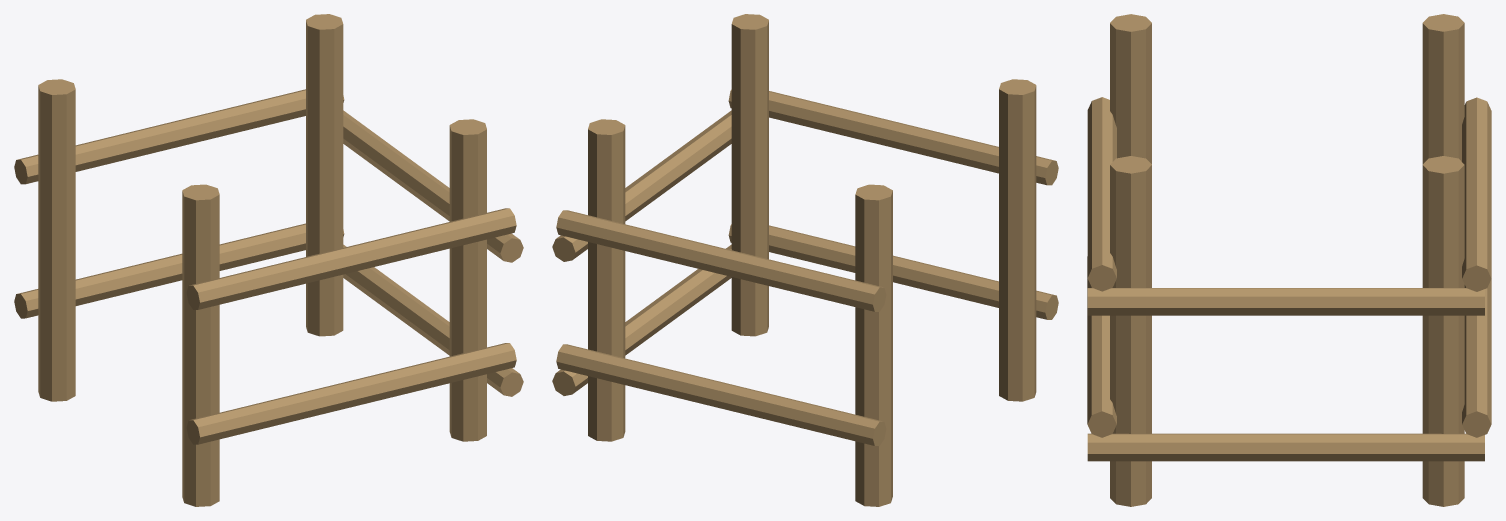
Rendered from Plany Cage.fbx.
3 views of the same model, side by side, from view 1: azimuth 30°, elevation 25°; view 2: azimuth 150°, elevation 25°; view 3: azimuth 270°, elevation 25° (orthographic). The views are drawn at different scales.
Parts seen in each view (by area): view 1: pCylinder1, pCylinder2, pCylinder4, pCylinder3, pCylinder5, pCylinder6, pCylinder8, pCylinder7, pCylinder9, pCylinder10; view 2: pCylinder4, pCylinder3, pCylinder1, pCylinder2, pCylinder8, pCylinder7, pCylinder5, pCylinder6, pCylinder9, pCylinder10; view 3: pCylinder2, pCylinder3, pCylinder10, pCylinder9, pCylinder1, pCylinder4, pCylinder8, pCylinder5, pCylinder7, pCylinder6.
Boxes of the visible parts, x1,y1,x2,y2 form: pCylinder1: (38,79,75,401); pCylinder2: (306,14,343,336); pCylinder4: (182,184,219,506); pCylinder3: (449,119,486,441); pCylinder5: (186,208,516,309); pCylinder6: (186,343,516,444); pCylinder8: (14,89,344,184); pCylinder7: (14,223,344,318); pCylinder9: (343,110,523,262); pCylinder10: (343,244,523,396); pCylinder4: (999,79,1036,401); pCylinder3: (731,14,768,336); pCylinder1: (855,184,892,506); pCylinder2: (588,119,625,441); pCylinder8: (556,210,886,311); pCylinder7: (556,344,886,446); pCylinder5: (728,89,1058,185); pCylinder6: (728,224,1058,319); pCylinder9: (552,110,731,261); pCylinder10: (552,244,731,395); pCylinder2: (1422,156,1464,506); pCylinder3: (1110,156,1151,506); pCylinder10: (1087,433,1484,461); pCylinder9: (1087,288,1484,315); pCylinder1: (1422,14,1464,164); pCylinder4: (1110,14,1151,163); pCylinder8: (1462,97,1491,291); pCylinder5: (1087,97,1116,291); pCylinder7: (1462,279,1491,437); pCylinder6: (1087,256,1116,437).
Bounding box in the file's own units: 9.08 × 8.22 × 9.04.
